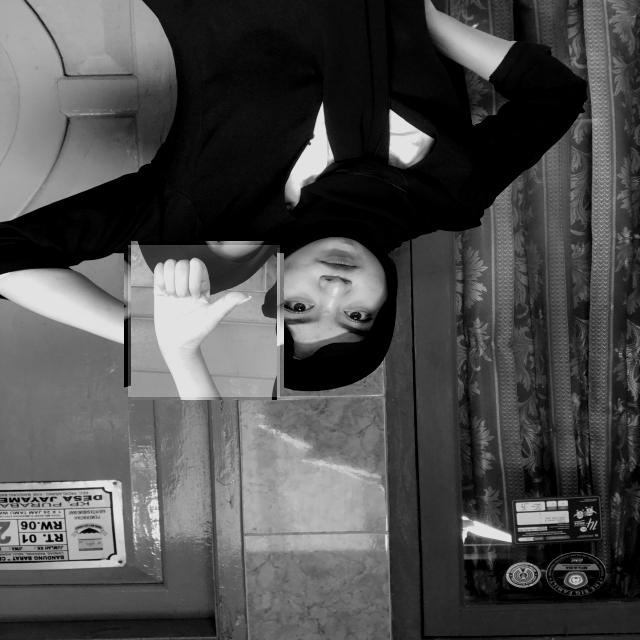sedih: (128, 245, 280, 397)
